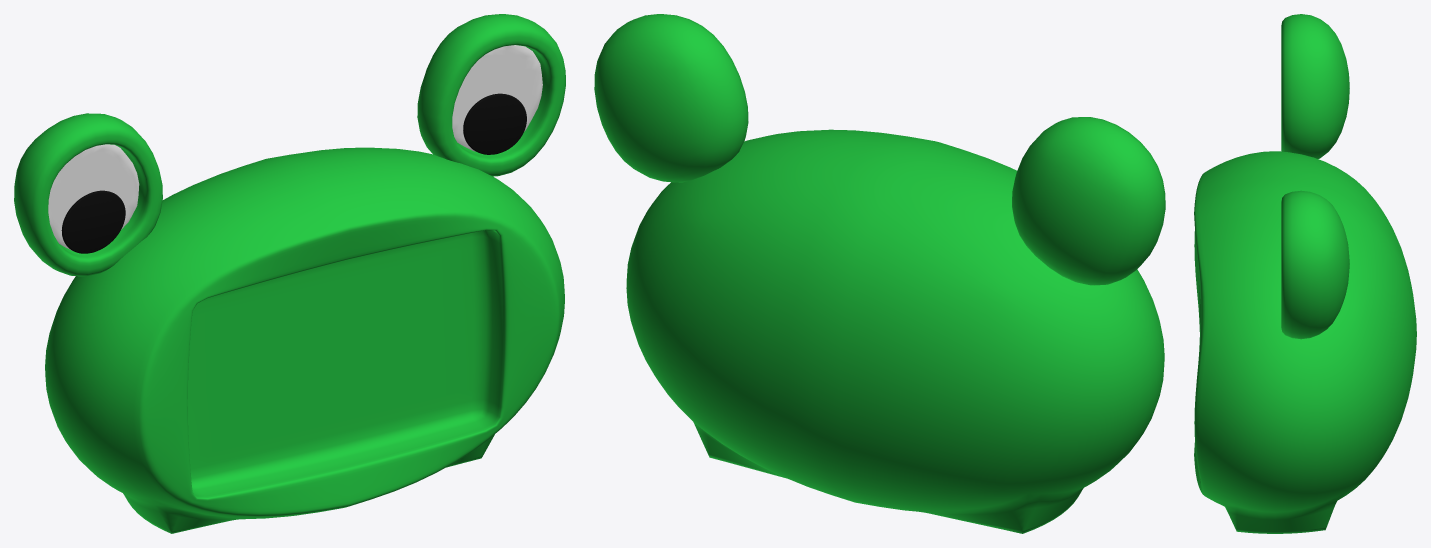
Rendered from frogcase-single-piece.fbx.
3 views of the same model, side by side, from view 1: azimuth 30°, elevation 25°; view 2: azimuth 150°, elevation 25°; view 3: azimuth 270°, elevation 25° (orthographic). The views are drawn at different scales.
Visible parts, largest first — view 1: Cube.000; view 2: Cube.000; view 3: Cube.000.
Boxes of the visible parts, x1,y1,x2,y2 form: Cube.000: [14, 14, 565, 533]; Cube.000: [594, 14, 1165, 533]; Cube.000: [1194, 14, 1416, 533].
Bounding box in the file's own units: 330 × 238 × 133.
